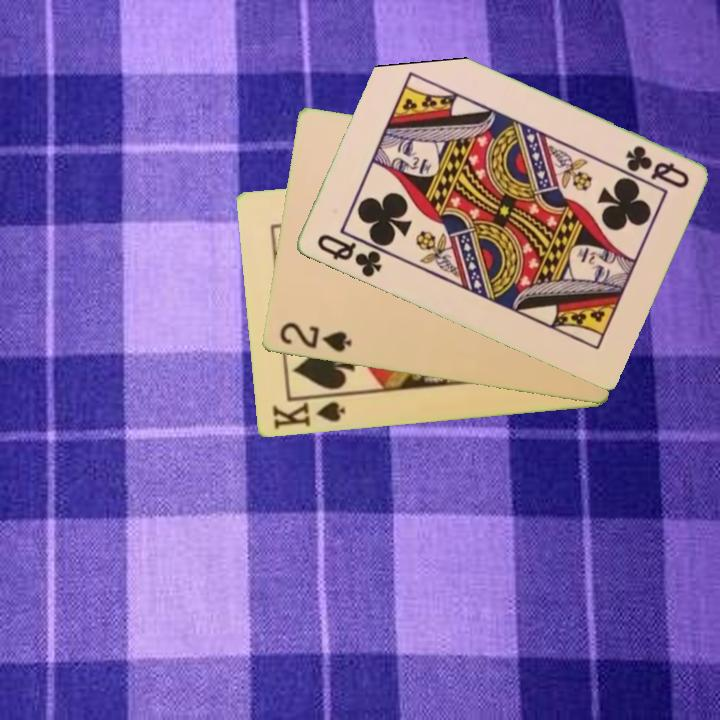2s: (275, 319, 355, 355)
Ks: (269, 393, 348, 432)
Qc: (313, 230, 385, 281), (621, 142, 692, 192)
